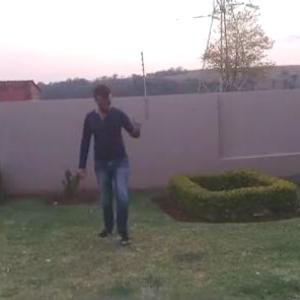takeoff-hand: (128, 108, 150, 138)
